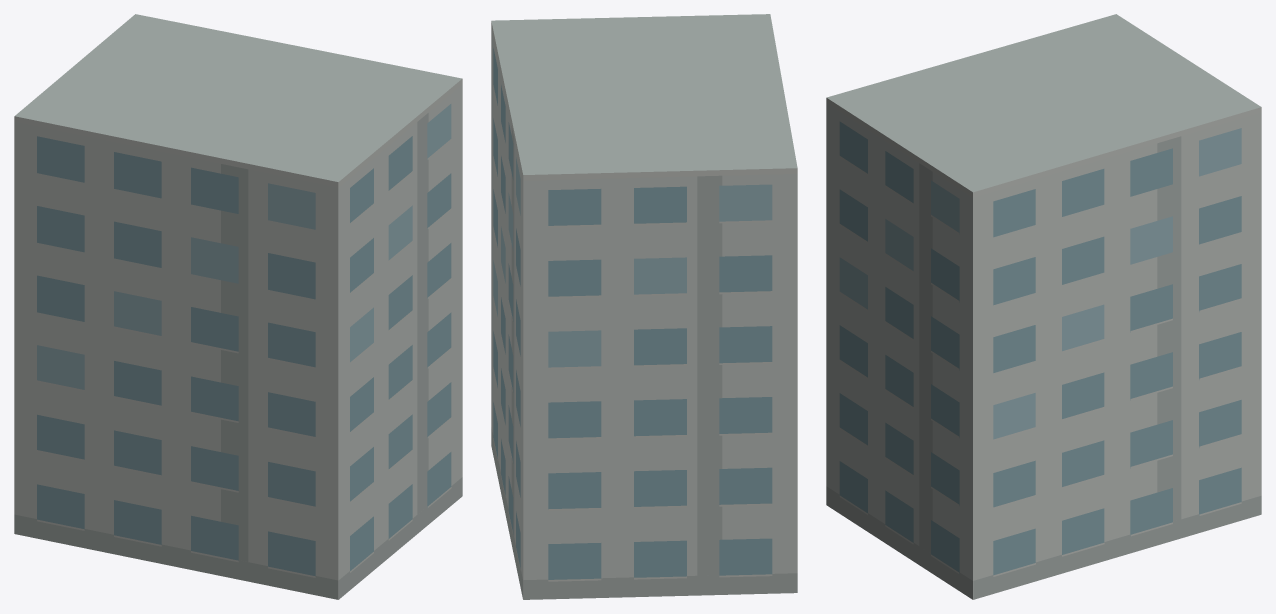
Rendered from survey-upis-32805086.glb.
The picture shows the model from 3 angles, left to right: view 1: azimuth 30°, elevation 25°; view 2: azimuth 150°, elevation 25°; view 3: azimuth 270°, elevation 25°; orthographic projection. The views are drawn at different scales.
Visible parts, largest first — view 1: survey-upis-32805086.tmp; view 2: survey-upis-32805086.tmp; view 3: survey-upis-32805086.tmp.
Part boxes in pixels (x1,y1,x2,y2): survey-upis-32805086.tmp: (14, 14, 462, 599); survey-upis-32805086.tmp: (491, 14, 797, 599); survey-upis-32805086.tmp: (826, 14, 1261, 599).
Size of the model in its own units: 17.18 by 18.3 by 17.72.
